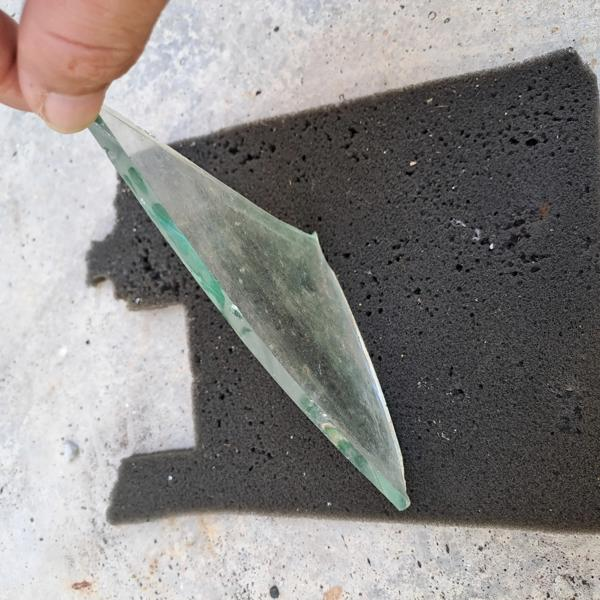Anorganik: (73, 94, 417, 529)
